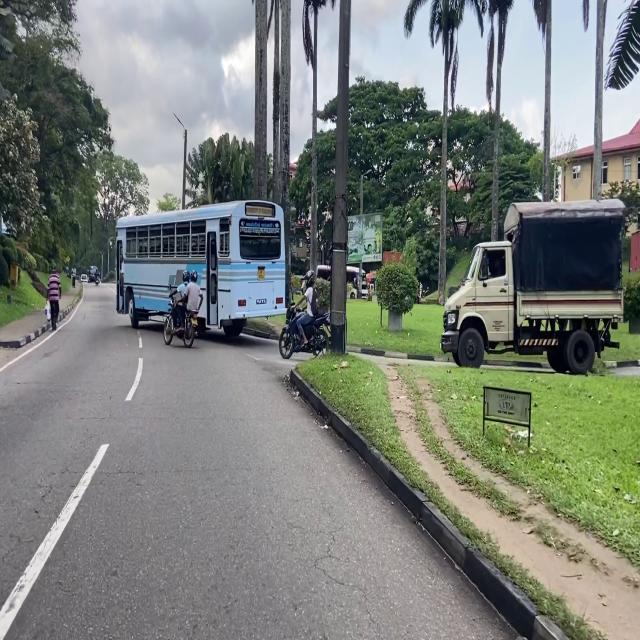bus: (116, 200, 286, 337), (345, 265, 367, 298), (317, 264, 345, 280)
motorcycle: (279, 304, 330, 359), (163, 284, 197, 348), (95, 278, 99, 286)
person: (177, 270, 203, 330), (296, 270, 316, 345), (172, 270, 189, 327), (47, 267, 61, 331), (71, 267, 77, 288), (95, 268, 99, 276)
truck: (441, 199, 624, 374)
van: (88, 265, 97, 282), (81, 274, 88, 282)
